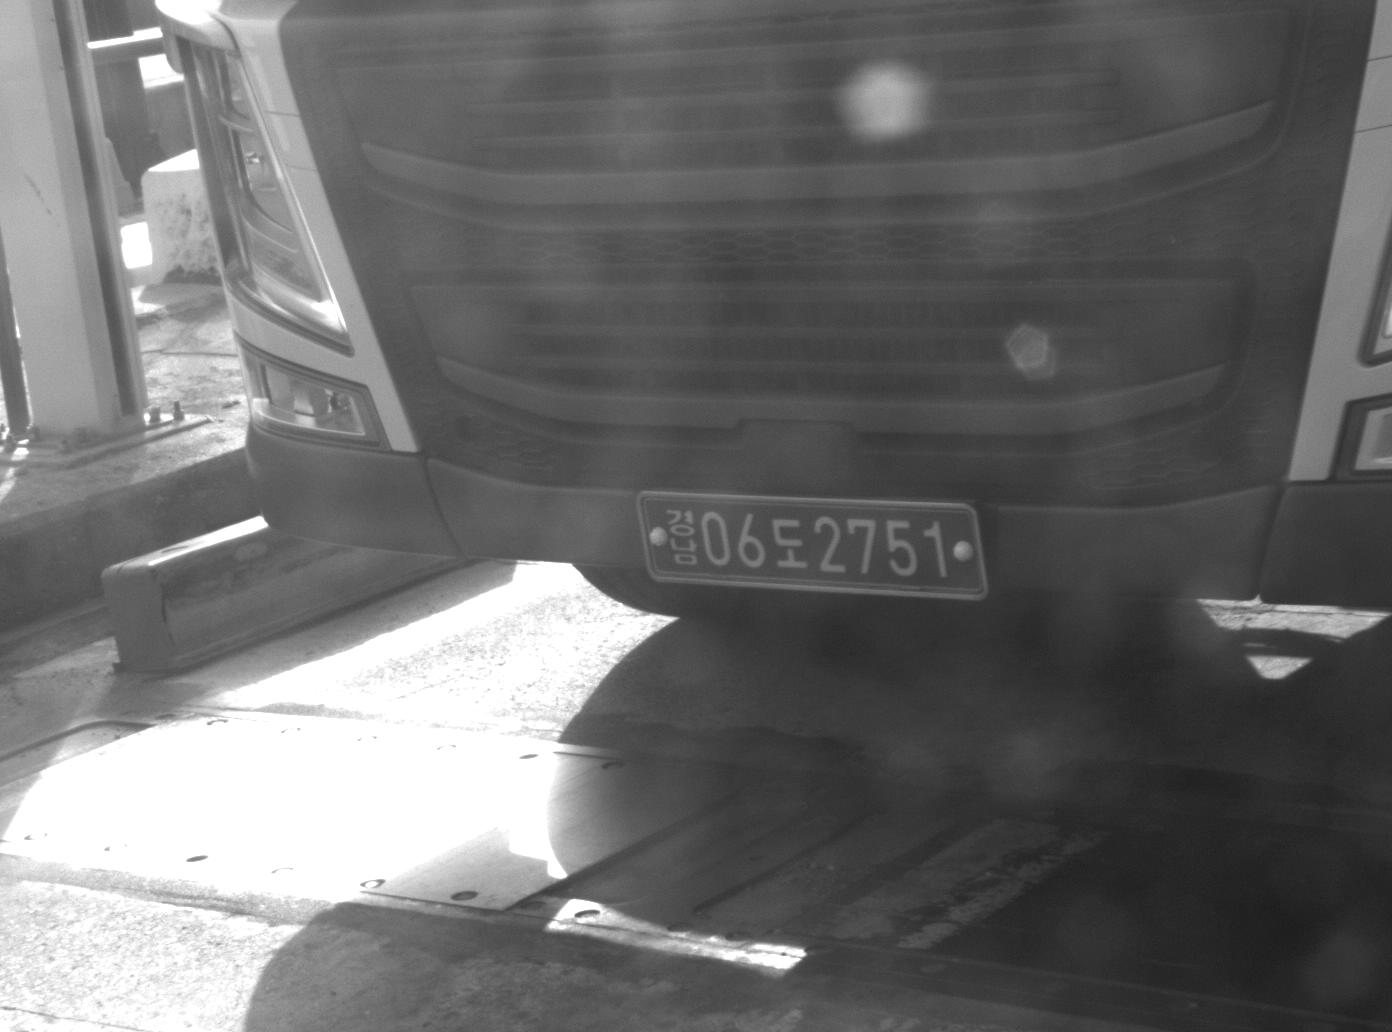car: (144, 1, 1387, 626)
plate: (636, 485, 993, 606)
